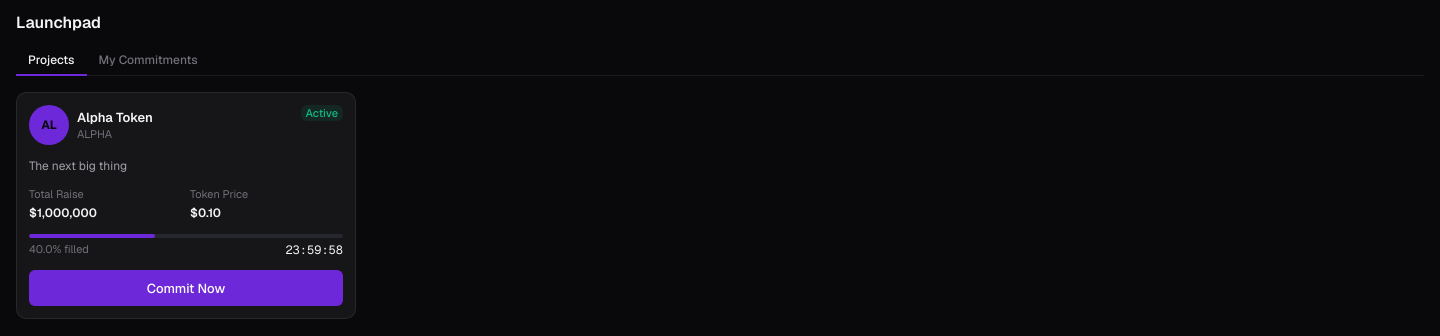
LaunchpadPage › my commitments tab shows history
// Switch to My Commitments tab
Click the tab "My Commitments".
click(148, 61)  # box [86,46,210,76]
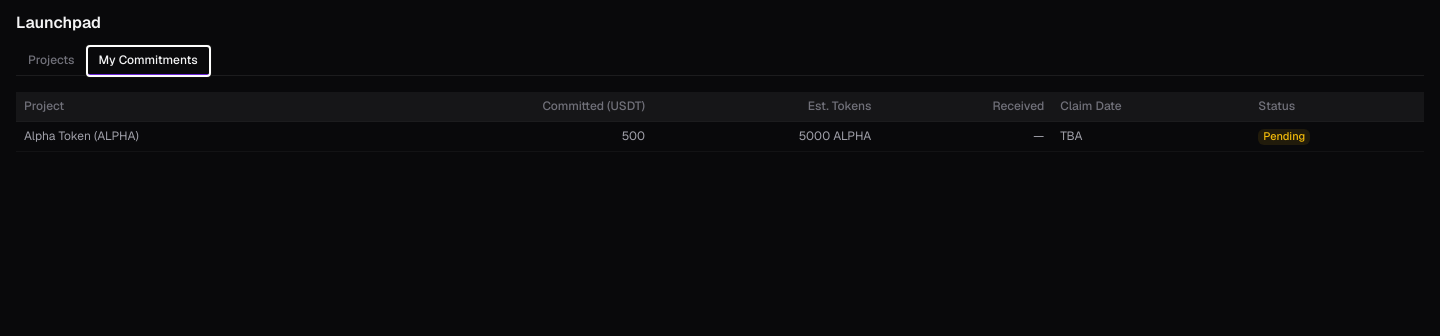
Expected: the text "Alpha Token (ALPHA)" is shown, [16,122,350,152]
